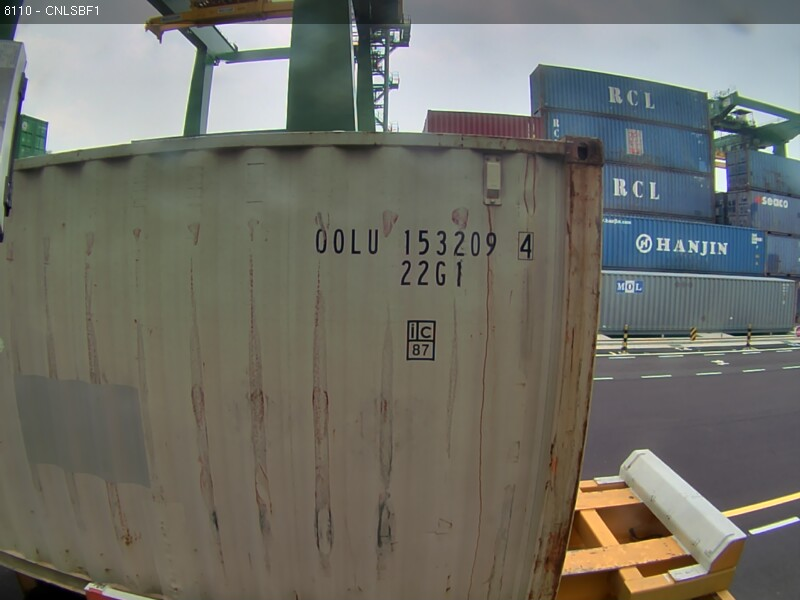container_no_door: (187, 127, 605, 528)
